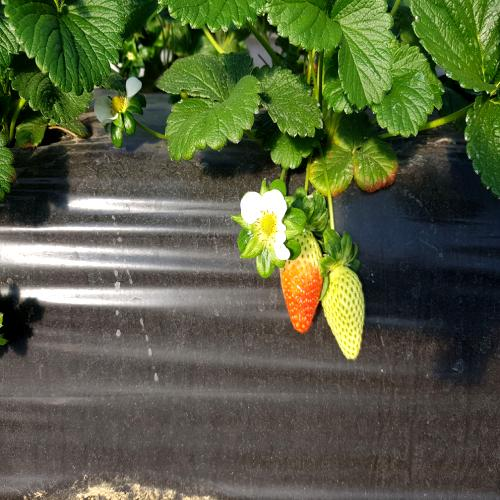partially-ripe: (278, 224, 324, 335)
unripe: (321, 255, 368, 378)
